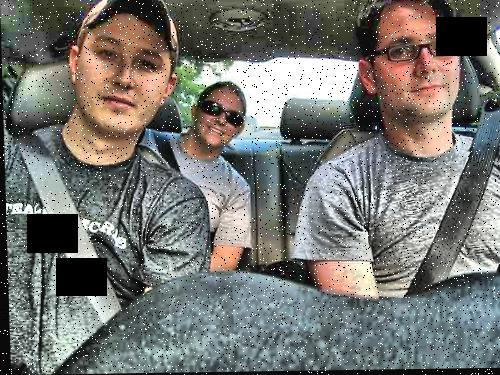seatbelt: (22, 142, 140, 327), (425, 118, 498, 301)
